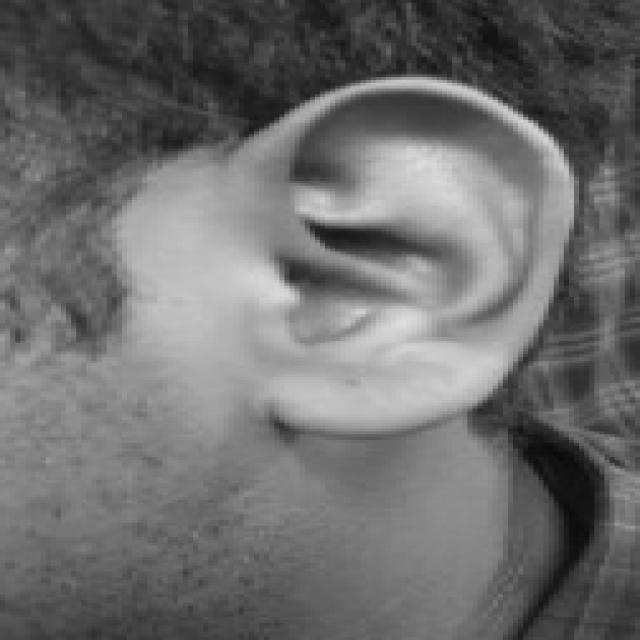ear: (239, 77, 569, 431)
